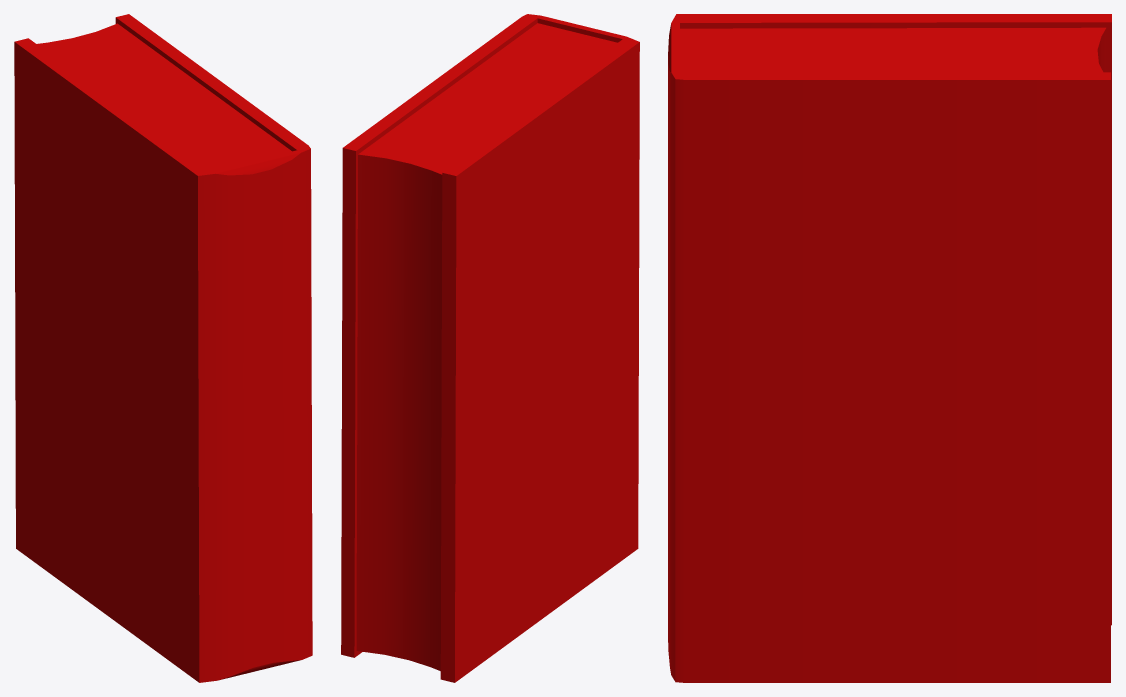
File: Attic_Book_04_LP.glb
The picture shows the model from 3 angles, left to right: view 1: azimuth 30°, elevation 25°; view 2: azimuth 150°, elevation 25°; view 3: azimuth 270°, elevation 25°; orthographic projection. The views are drawn at different scales.
Visible parts, largest first — view 1: Attic_Book_04_LP; view 2: Attic_Book_04_LP; view 3: Attic_Book_04_LP.
Part boxes in pixels (x1,y1,x2,y2): Attic_Book_04_LP: [14, 14, 312, 682]; Attic_Book_04_LP: [341, 14, 639, 682]; Attic_Book_04_LP: [668, 14, 1111, 682].
Size of the model in its own units: 0.0695 by 0.2911 by 0.1944.
